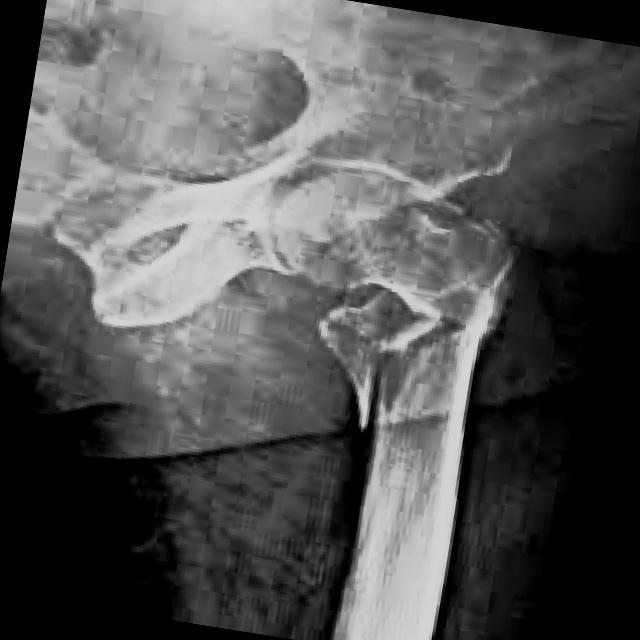Comminuted Fracture: (310, 348, 409, 440)
